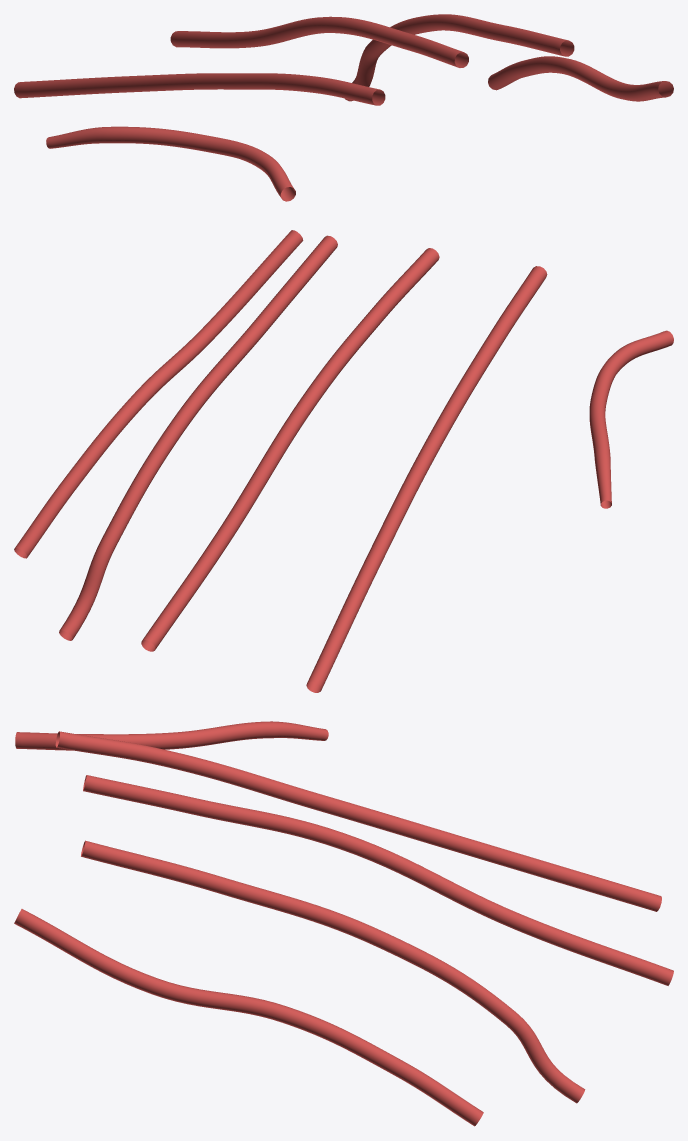
3 renders of one model, top to bottom at view 1: azimuth 30°, elevation 25°; view 2: azimuth 150°, elevation 25°; view 3: azimuth 270°, elevation 25°, orthographic. The views are drawn at different scales.
Visible parts, largest first — view 1: 右侧掌背动脉; view 2: 右侧掌背动脉; view 3: 右侧掌背动脉.
Part boxes in pixels (x1,y1,x2,y2): 右侧掌背动脉: (14,14,673,201); 右侧掌背动脉: (14,230,673,692); 右侧掌背动脉: (14,721,673,1126).
Size of the model in its own units: 0.0929 by 0.0427 by 0.0976.
